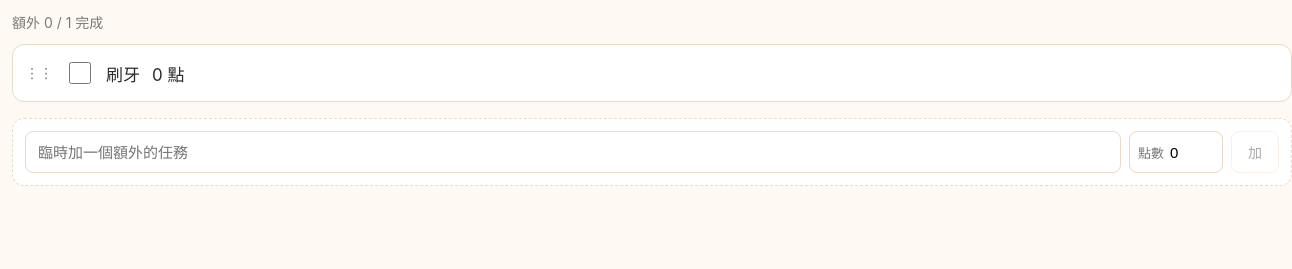
Test: ExtraPage › keeps adhoc tasks off the today page
Type "買電池" into the field labelled "臨時加一個額外的任務" at point(573, 152), box [25, 131, 1121, 173]
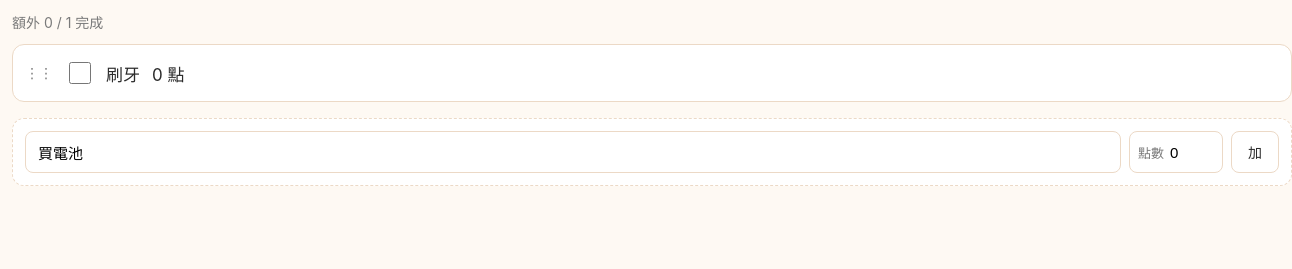
Click the button "加" at point(1255, 152), box [1231, 131, 1279, 173]
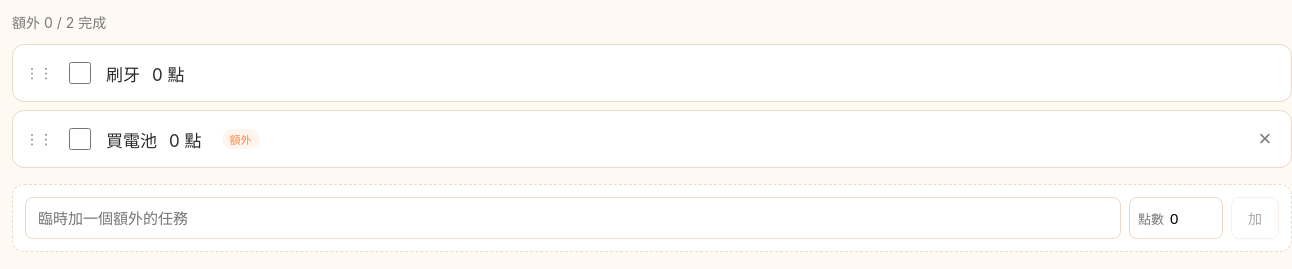
Check: the checkbox labelled "買電池" is shown, box [69, 128, 91, 150]
